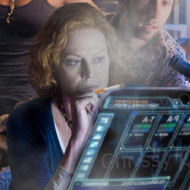cigarette: (94, 83, 132, 94)
